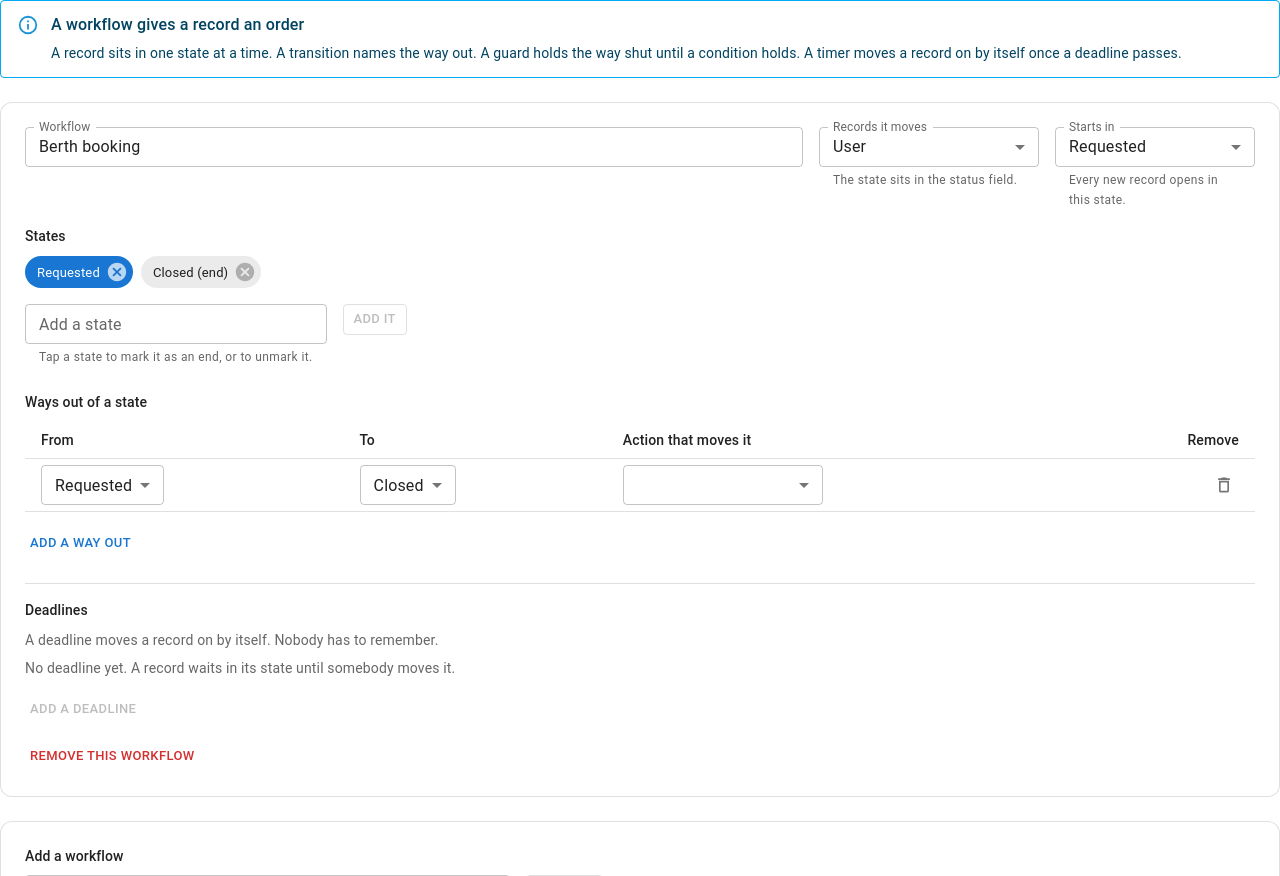
Test: the workflow editor over a held workflow › points a way out at another ending state
Press the mouse on the dropdown named "To state of close" at (399, 485), box [374,476,424,495]
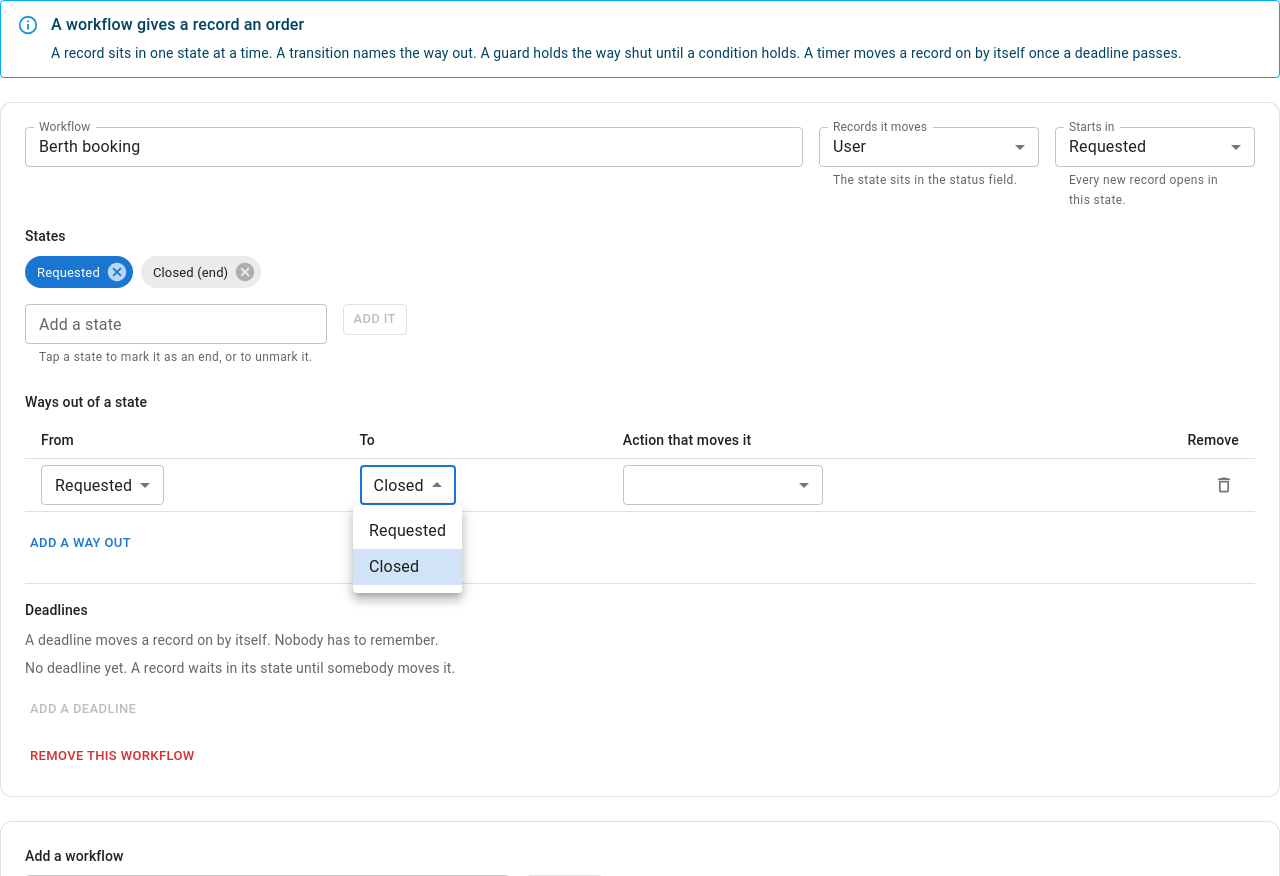
Click the option "Requested" at (408, 530), box [369,521,446,540]
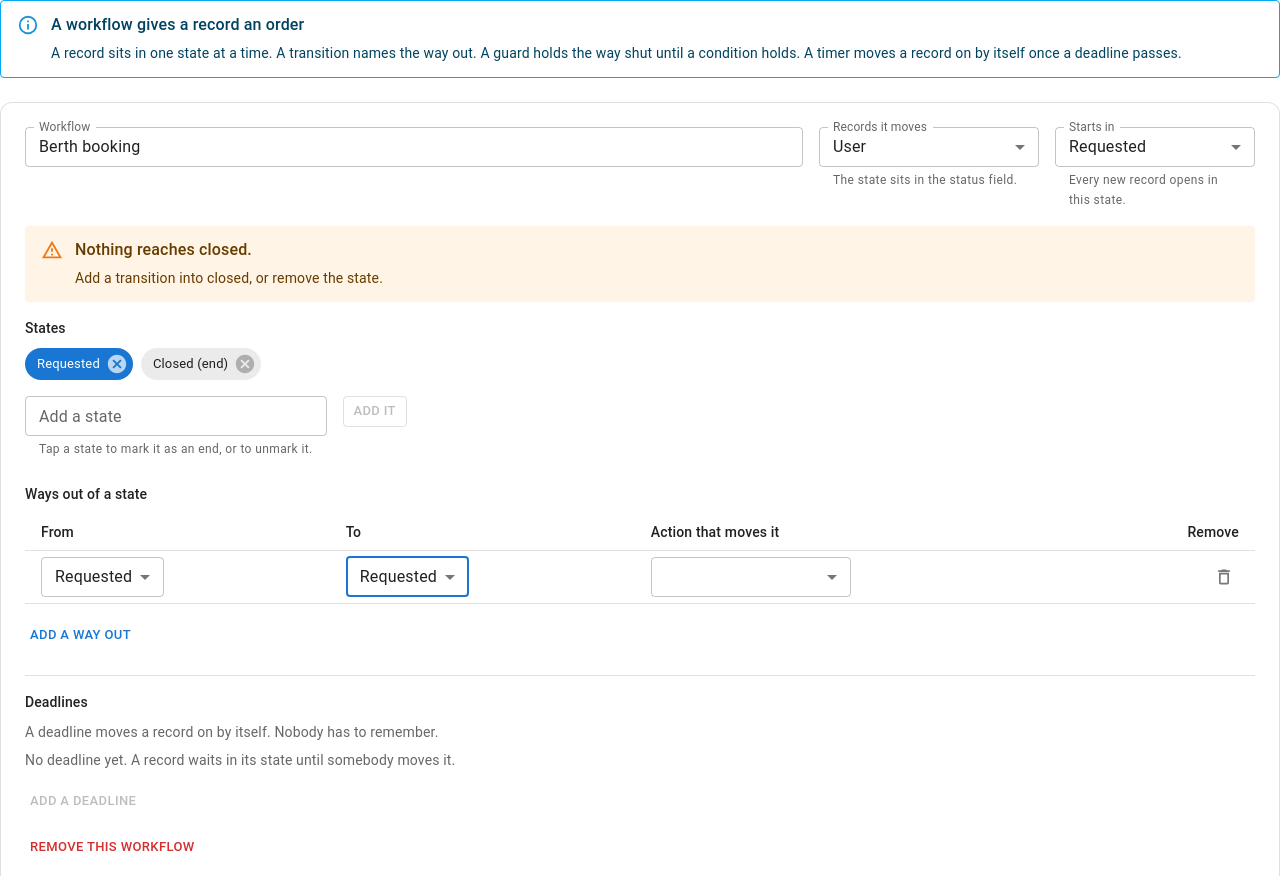
Expected: the list is gone
Expected: the text "Nothing reaches closed." is shown, [75,240,252,259]
